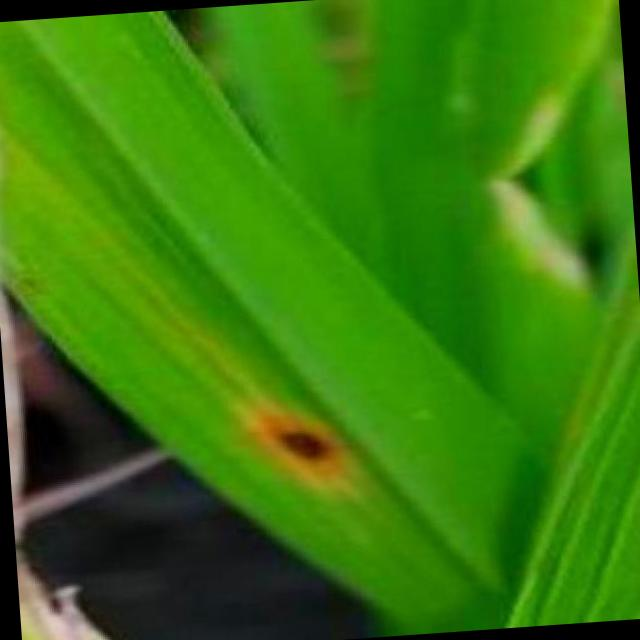Rice_Brownspot: (248, 406, 350, 475)
